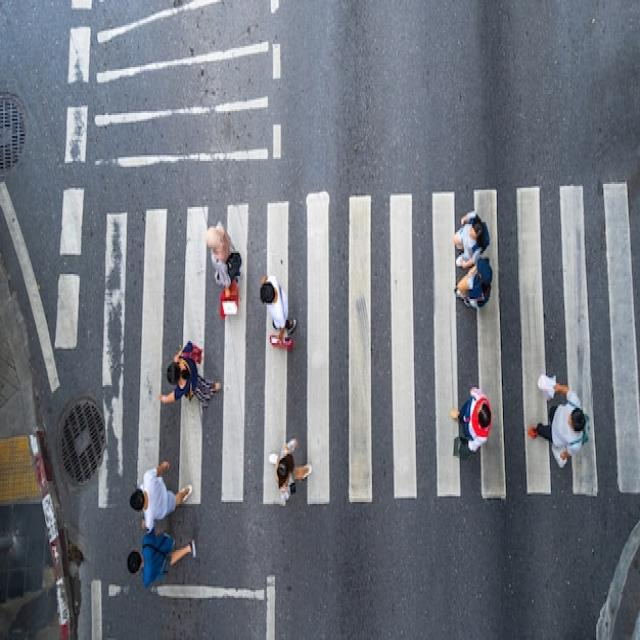Pedestrians: (527, 378, 590, 468), (129, 460, 194, 533), (158, 343, 222, 410), (123, 532, 201, 580), (204, 220, 243, 316), (258, 272, 298, 351), (269, 437, 313, 506), (451, 385, 492, 454), (455, 262, 498, 308), (455, 211, 490, 264)
